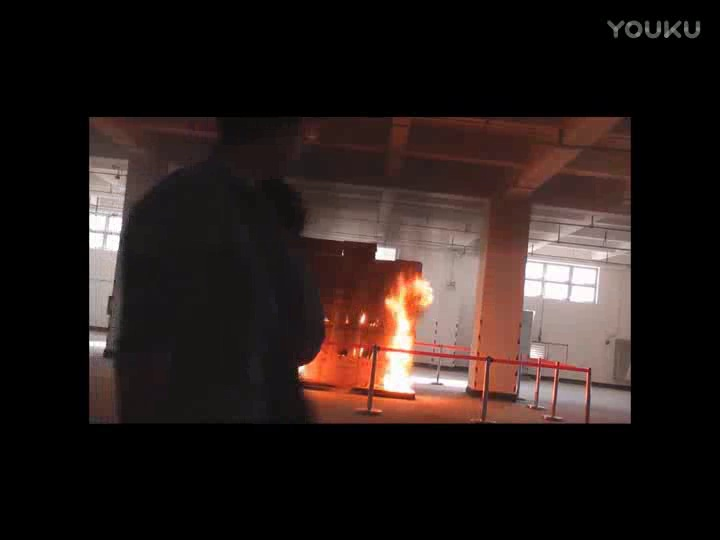fire: (382, 265, 432, 398)
